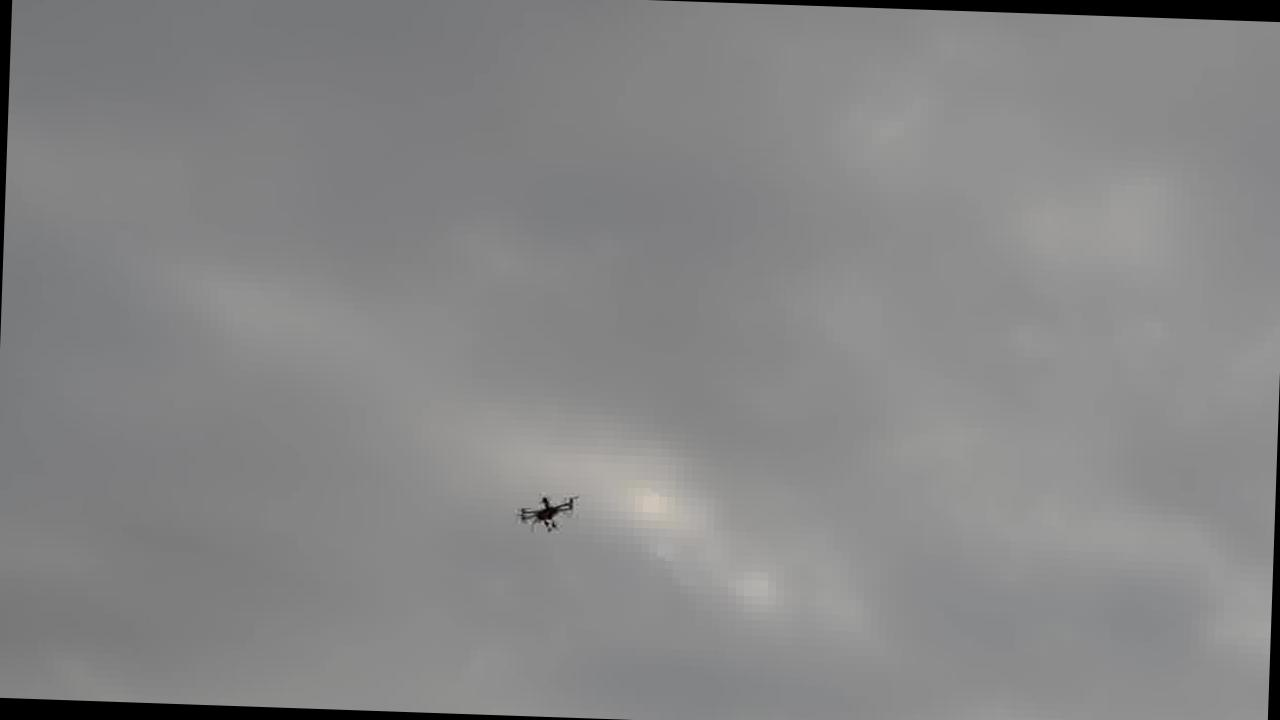drone: (511, 486, 586, 538)
